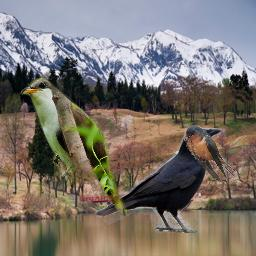Crow: (95, 128, 222, 233)
Cuckoo: (17, 78, 133, 217)
Swallow: (184, 125, 240, 182)
